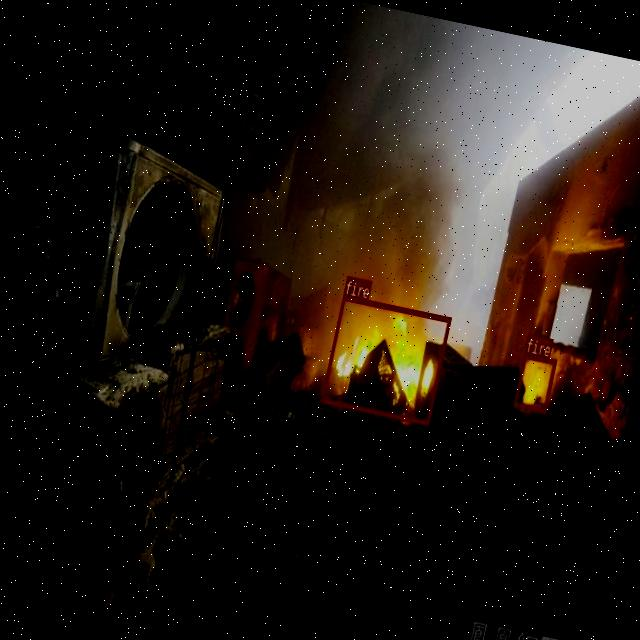fire: (320, 294, 451, 424), (512, 351, 556, 413)
